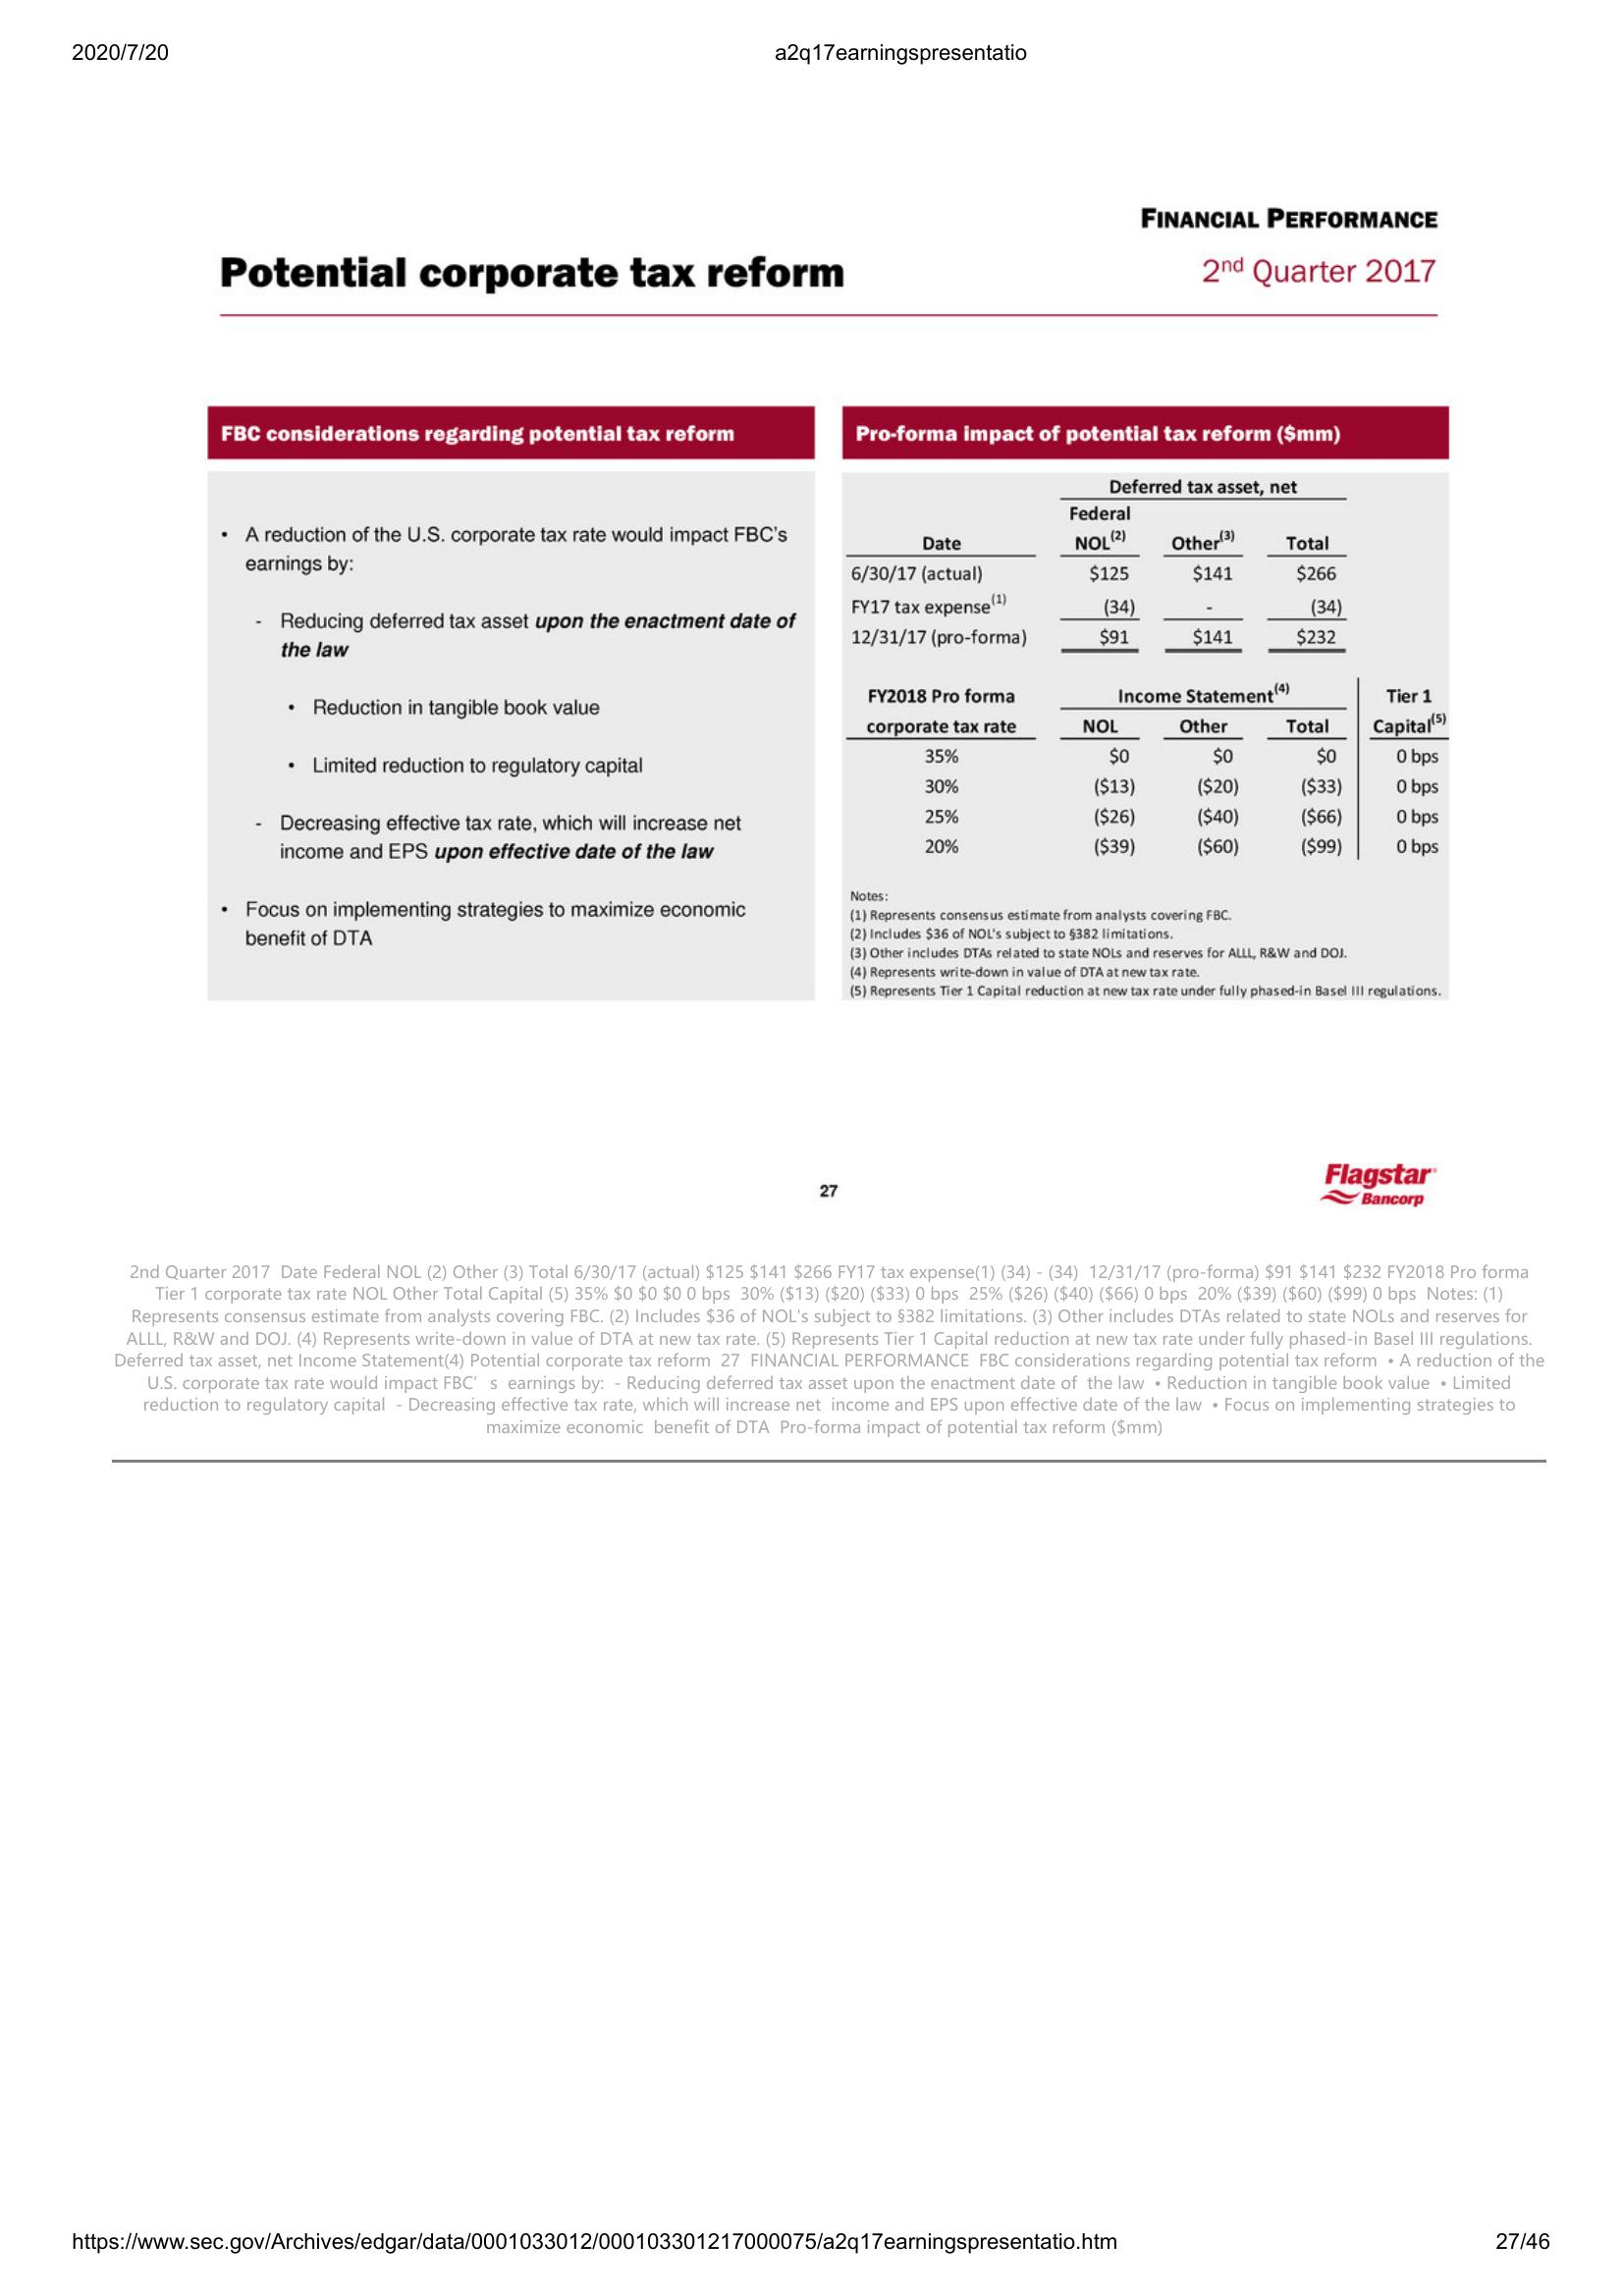table: (841, 470, 1446, 888)
